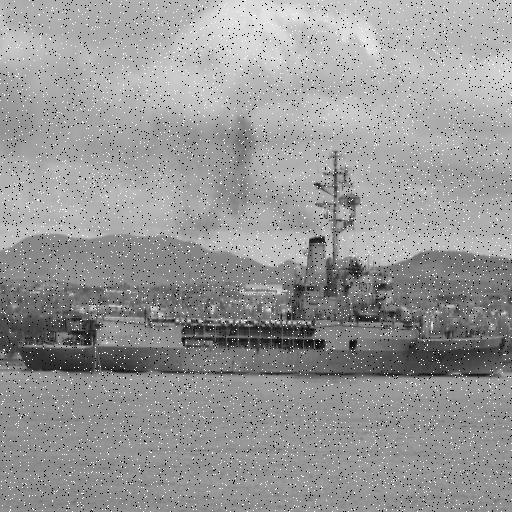Portanaves: (18, 146, 512, 381)
